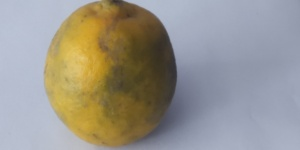BAD: (42, 1, 178, 147)
